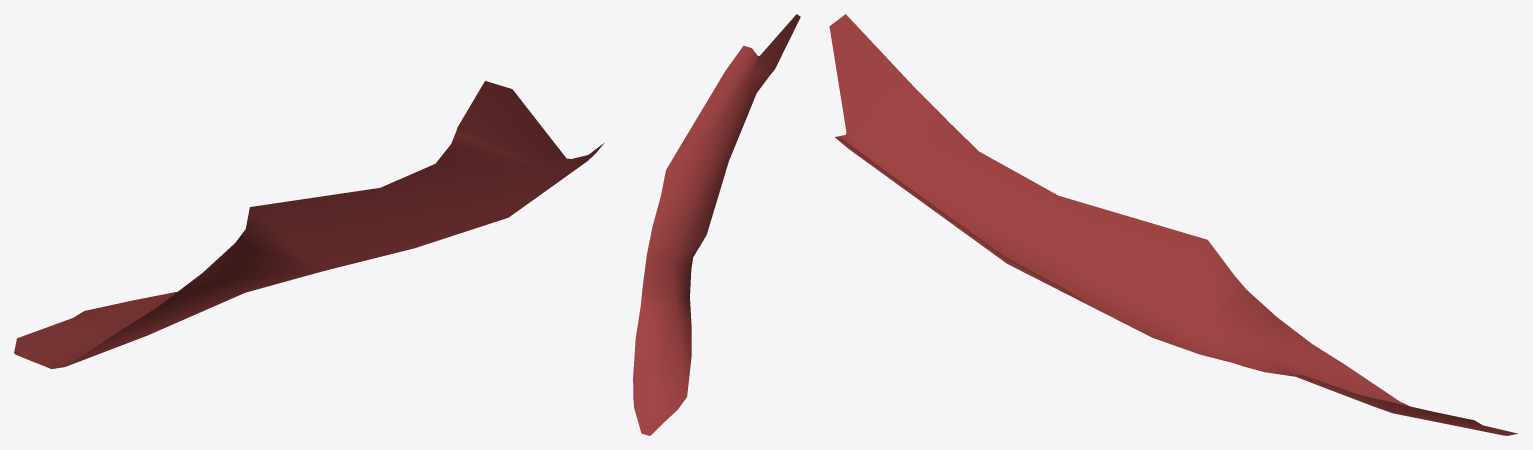
Rendered from gracilis-muscle-or.glb.
3 renders of one model, left to right at view 1: azimuth 30°, elevation 25°; view 2: azimuth 150°, elevation 25°; view 3: azimuth 270°, elevation 25°, orthographic. The views are drawn at different scales.
Parts seen in each view (by area): view 1: Gracilis muscle.or; view 2: Gracilis muscle.or; view 3: Gracilis muscle.or.
Boxes of the visible parts, bbox=[...] form: Gracilis muscle.or: bbox=[14, 81, 603, 368]; Gracilis muscle.or: bbox=[633, 14, 800, 435]; Gracilis muscle.or: bbox=[829, 14, 1517, 435].
Bounding box in the file's own units: 0.014 × 0.0298 × 0.0407.
